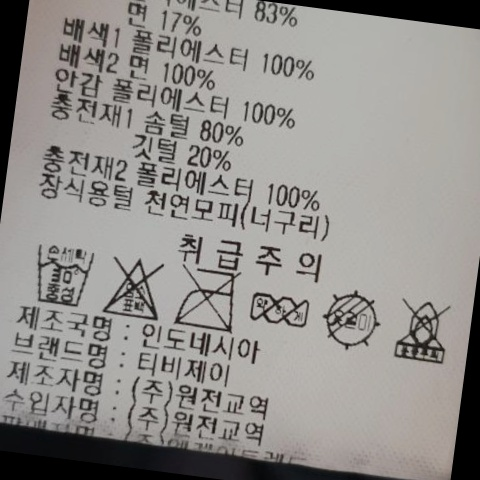DN_iron: (171, 264, 243, 336)
hand_wash: (31, 239, 101, 312)
line_dry_in_shade: (322, 287, 387, 354)
non_chlorine_bleach: (102, 245, 174, 324)
wring: (248, 286, 318, 332)
